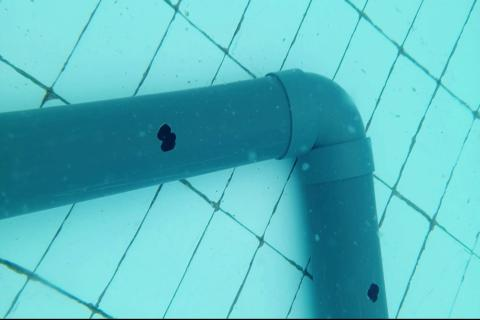kebocoran: (156, 123, 177, 153), (366, 282, 379, 303)
